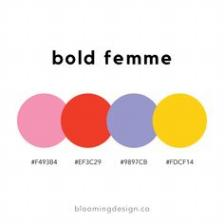red: (62, 94, 110, 148)
